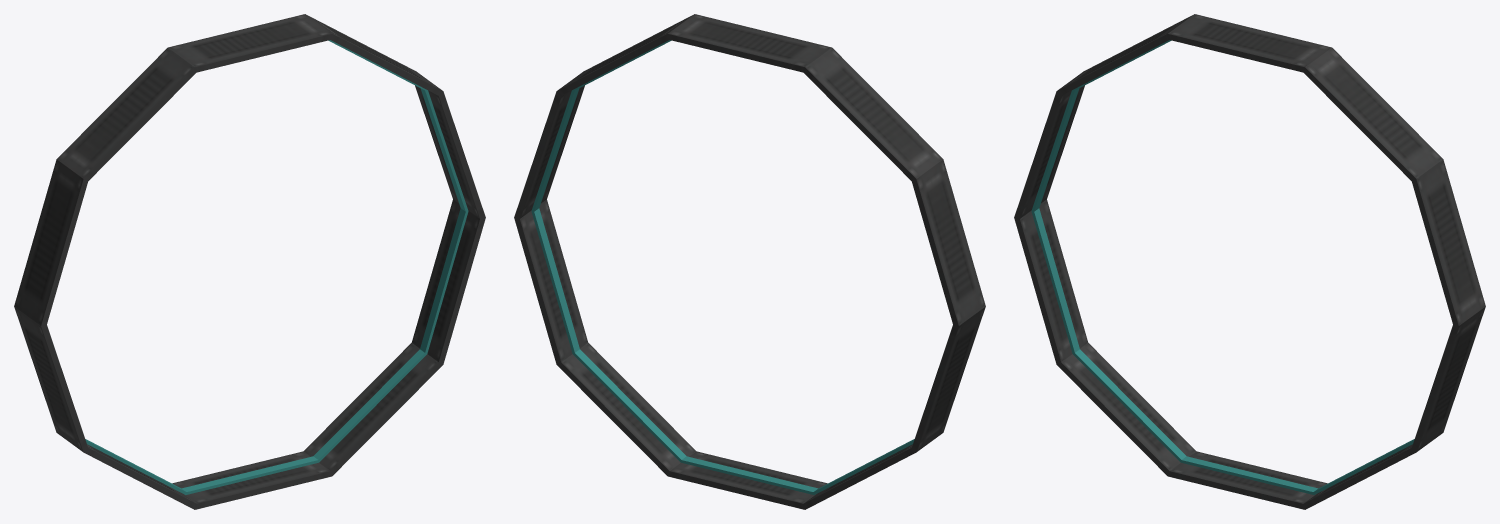
File: Colony_Ring_Art.fbx
3 renders of one model, left to right at view 1: azimuth 30°, elevation 25°; view 2: azimuth 150°, elevation 25°; view 3: azimuth 330°, elevation 25°, orthographic.
Visible parts, largest first — view 1: Colony_Ring_Art; view 2: Colony_Ring_Art; view 3: Colony_Ring_Art.
Part boxes in pixels (x1,y1,x2,y2): Colony_Ring_Art: [14, 14, 485, 509]; Colony_Ring_Art: [514, 14, 985, 509]; Colony_Ring_Art: [1014, 14, 1485, 509].
Bounding box in the file's own units: 713 × 678 × 75.11.
